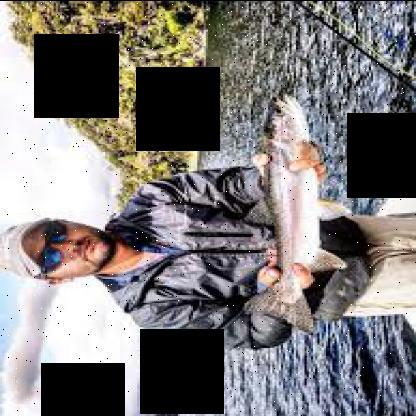fish: (241, 92, 342, 338)
